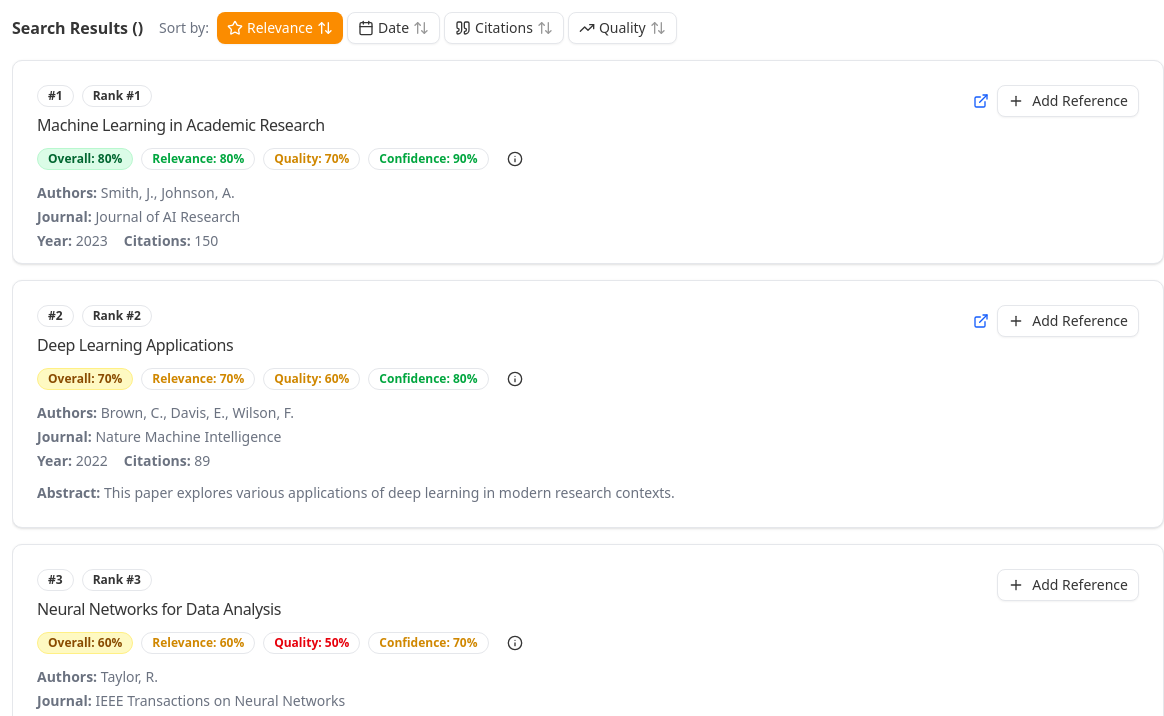
Test case: SearchResultsDisplay › handles sort direction toggle
Click once to sort by relevance (should be default)
Click the button "Relevance". click: (280, 28)
box: [217,12,343,44]
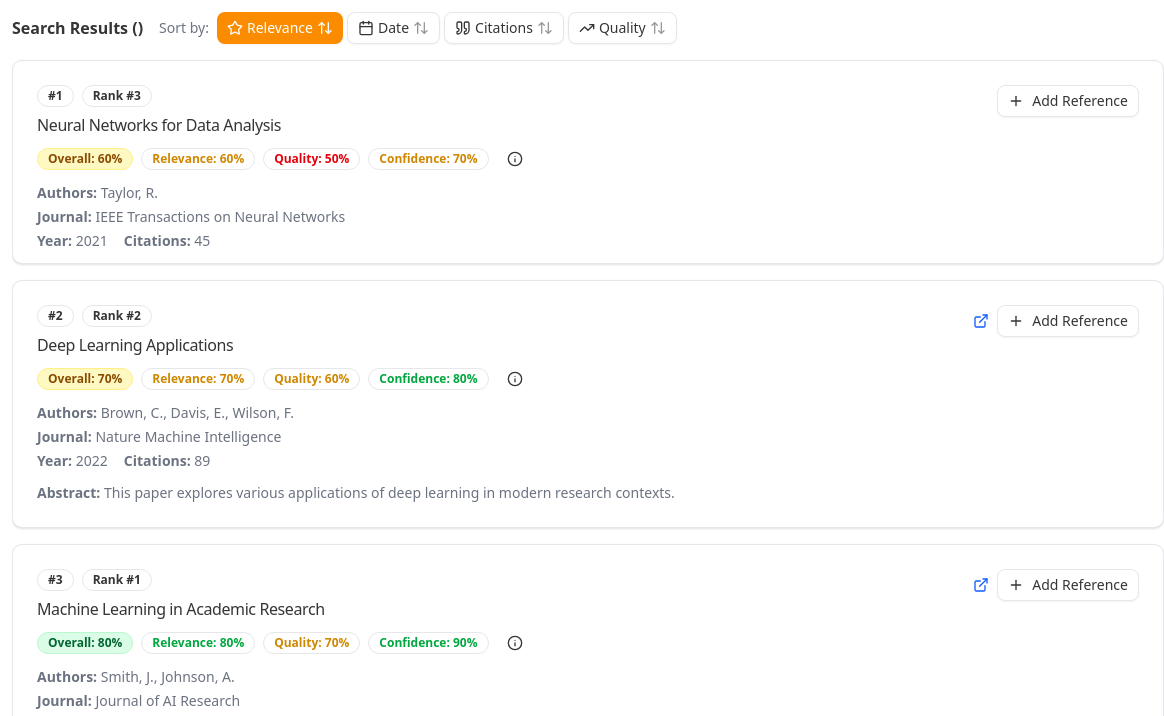
Click again to toggle direction
Click the button "Relevance". click: (280, 28)
box: [217,12,343,44]
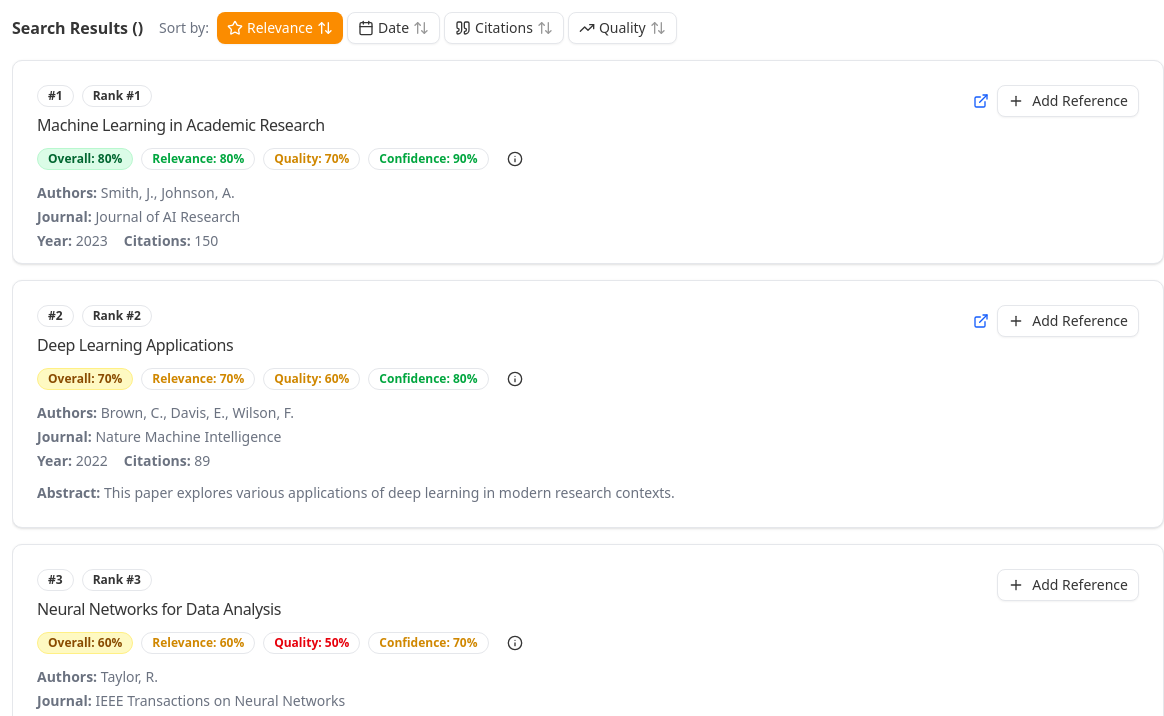
Now the heading "Machine Learning in Academic Research" is shown, box [37,114,325,136]
